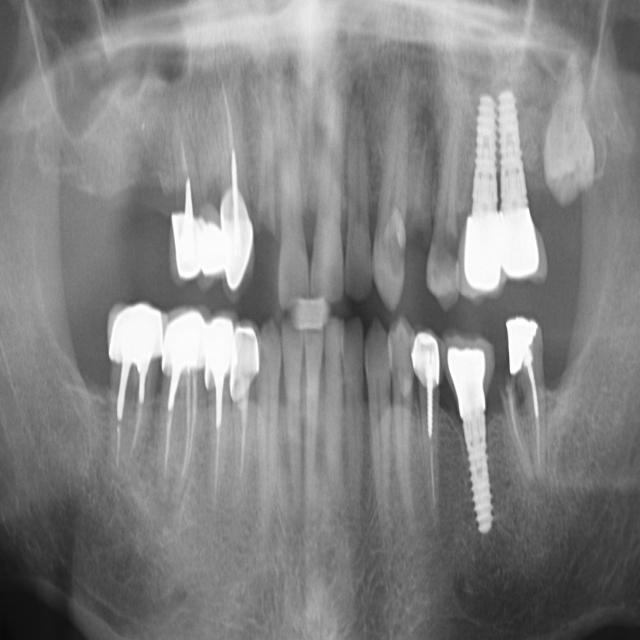infected-teeth: (106, 302, 161, 481), (215, 53, 254, 297), (497, 312, 547, 493), (160, 310, 200, 509), (410, 326, 443, 539), (169, 114, 207, 288), (229, 324, 259, 518), (204, 315, 230, 525)
